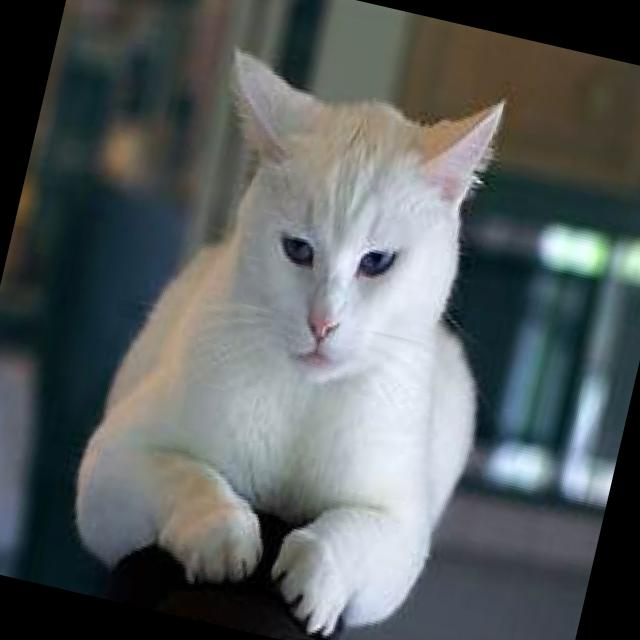cat: (51, 20, 551, 640)
